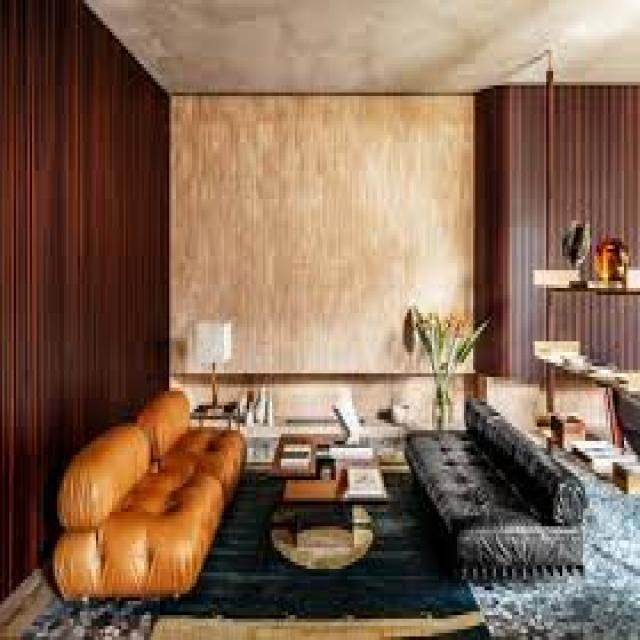Lamp: (192, 317, 232, 417)
Sofa: (400, 392, 586, 584), (69, 401, 245, 601)
Table: (273, 418, 384, 569)
